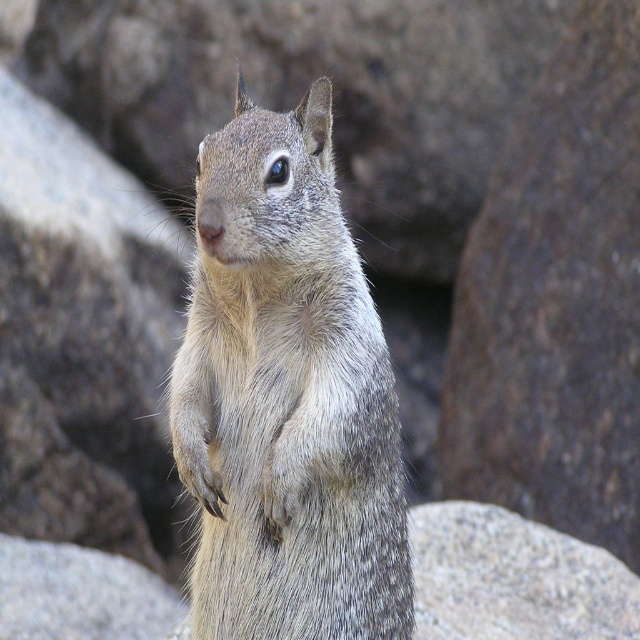Squirrel: (112, 52, 428, 640)
